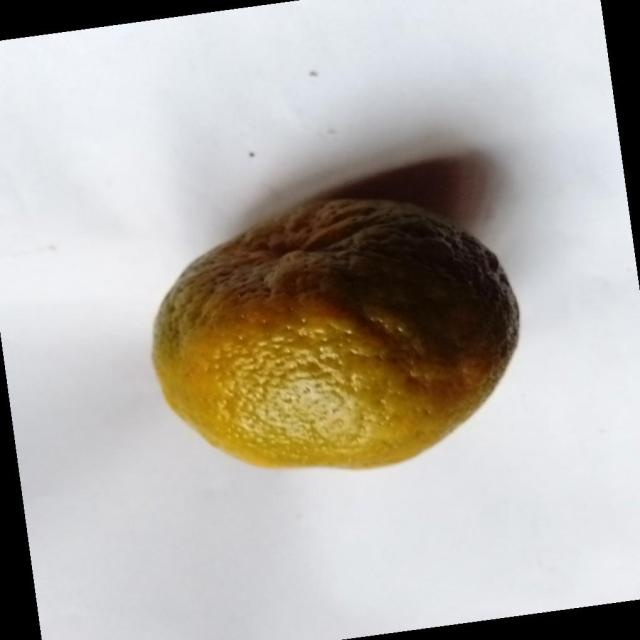agrume: (151, 194, 521, 471)
